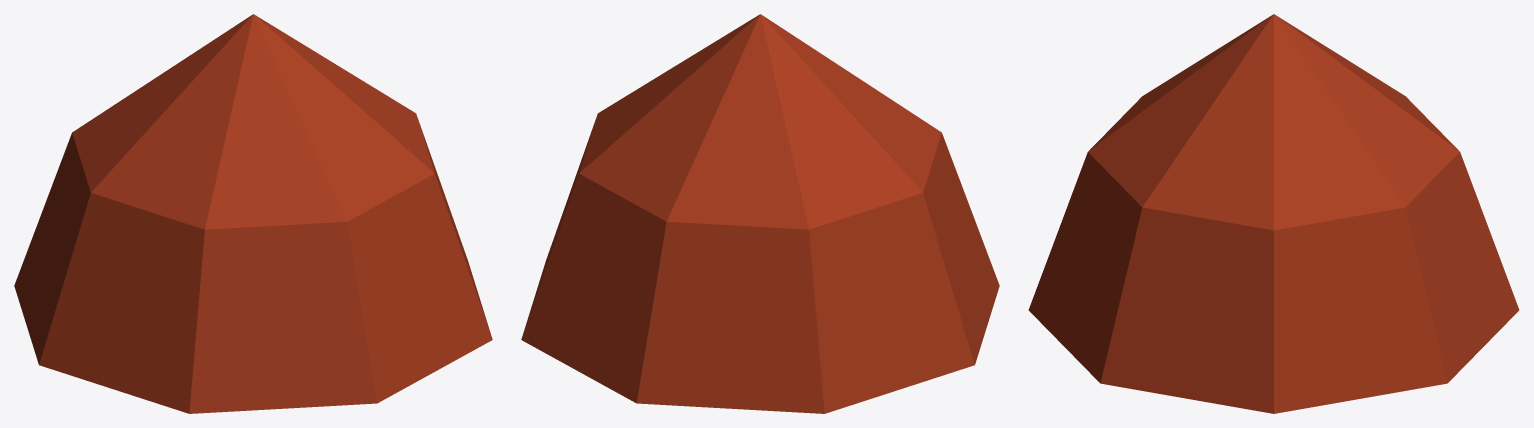
File: RocketCone.obj
3 views of the same model, side by side, from view 1: azimuth 30°, elevation 25°; view 2: azimuth 150°, elevation 25°; view 3: azimuth 270°, elevation 25° (orthographic).
Visible parts, largest first — view 1: RocketCone; view 2: RocketCone; view 3: RocketCone.
Boxes of the visible parts, box(x1,y1,x2,y2) form: RocketCone: box(14, 14, 492, 413); RocketCone: box(521, 14, 999, 413); RocketCone: box(1028, 14, 1519, 413).
Bounding box in the file's own units: 1 × 0.6657 × 1.
